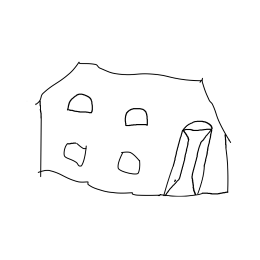door: (160, 115, 215, 201)
open_window: (55, 133, 92, 169), (112, 144, 146, 180), (120, 99, 155, 132), (65, 90, 102, 121)
single_line_roof: (34, 59, 226, 110)
wall: (19, 98, 232, 201)
